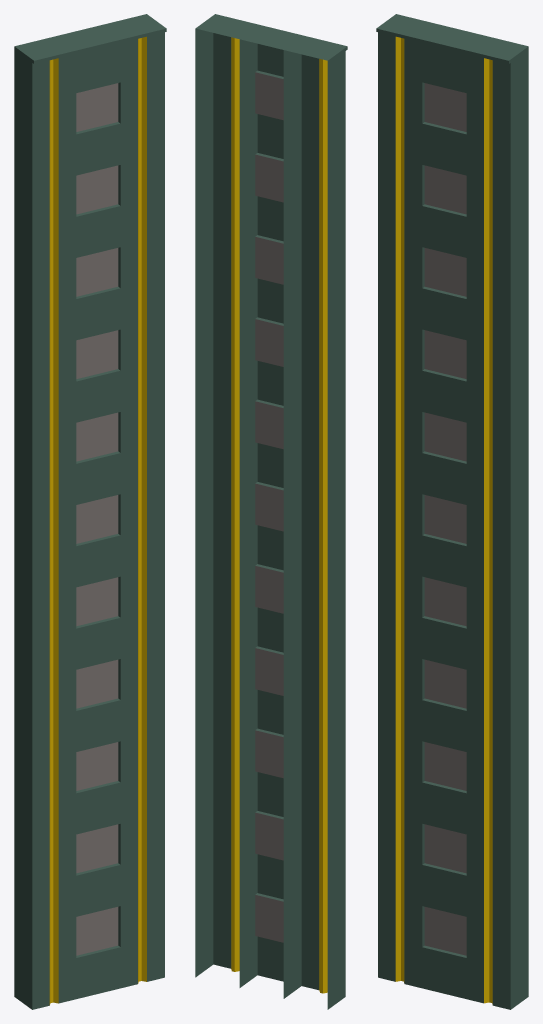
The picture shows the model from 3 angles, left to right: view 1: azimuth 30°, elevation 25°; view 2: azimuth 150°, elevation 25°; view 3: azimuth 330°, elevation 25°; orthographic projection.
Parts seen in each view (by area): view 1: Column.029; view 2: Column.029; view 3: Column.029.
Part boxes in pixels (x1,y1,x2,y2): Column.029: (14,14,166,1009); Column.029: (195,14,347,1009); Column.029: (376,14,528,1009).
Size of the model in its own units: 835 by 5726 by 217.
